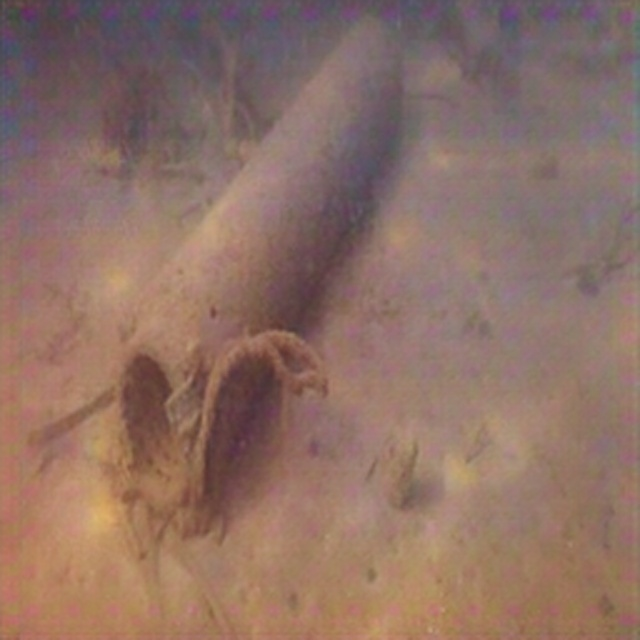mine: (115, 18, 404, 514)
